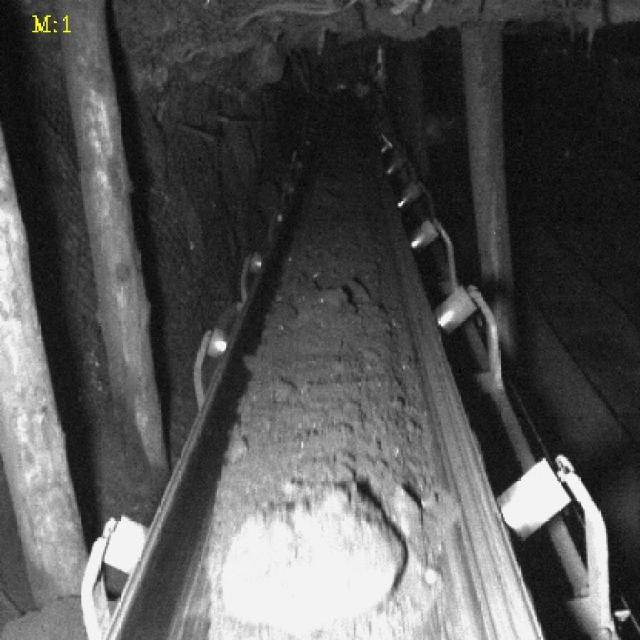large_sized_coal: (222, 494, 406, 632), (388, 488, 423, 540)
